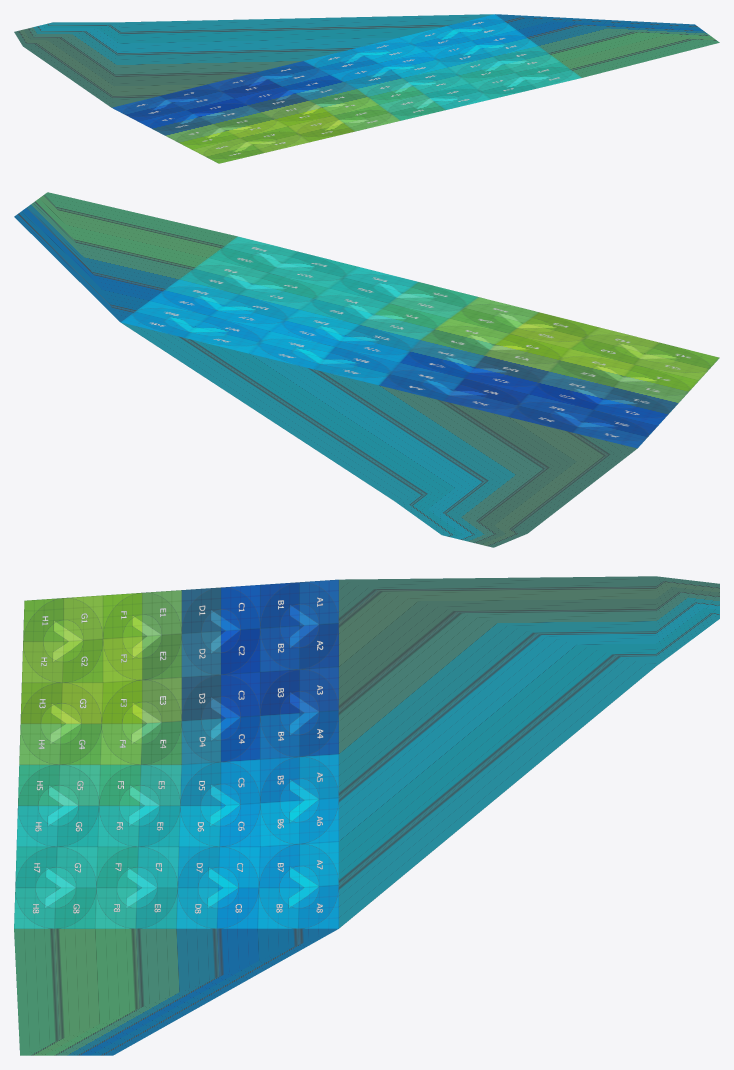
Rendered from GrassBorder4Collider.fbx.
3 views of the same model, one above another, from view 1: azimuth 30°, elevation 25°; view 2: azimuth 150°, elevation 25°; view 3: azimuth 270°, elevation 25° (orthographic). The views are drawn at different scales.
Visible parts, largest first — view 1: GrassBorder006; view 2: GrassBorder006; view 3: GrassBorder006.
Boxes of the visible parts, x1,y1,x2,y2 form: GrassBorder006: (14, 14, 719, 163); GrassBorder006: (14, 192, 719, 547); GrassBorder006: (14, 576, 719, 1055).
Bounding box in the file's own units: 12.05 × 8.88e-16 × 7.5.
Materials: 1 (1 with a texture image).
